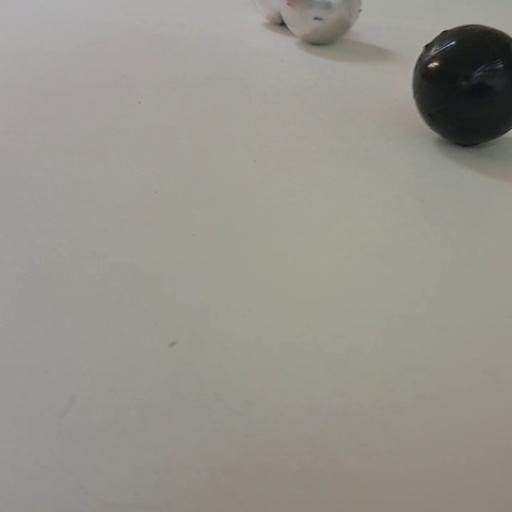alive: (270, 0, 361, 46)
dead: (408, 23, 511, 148)
